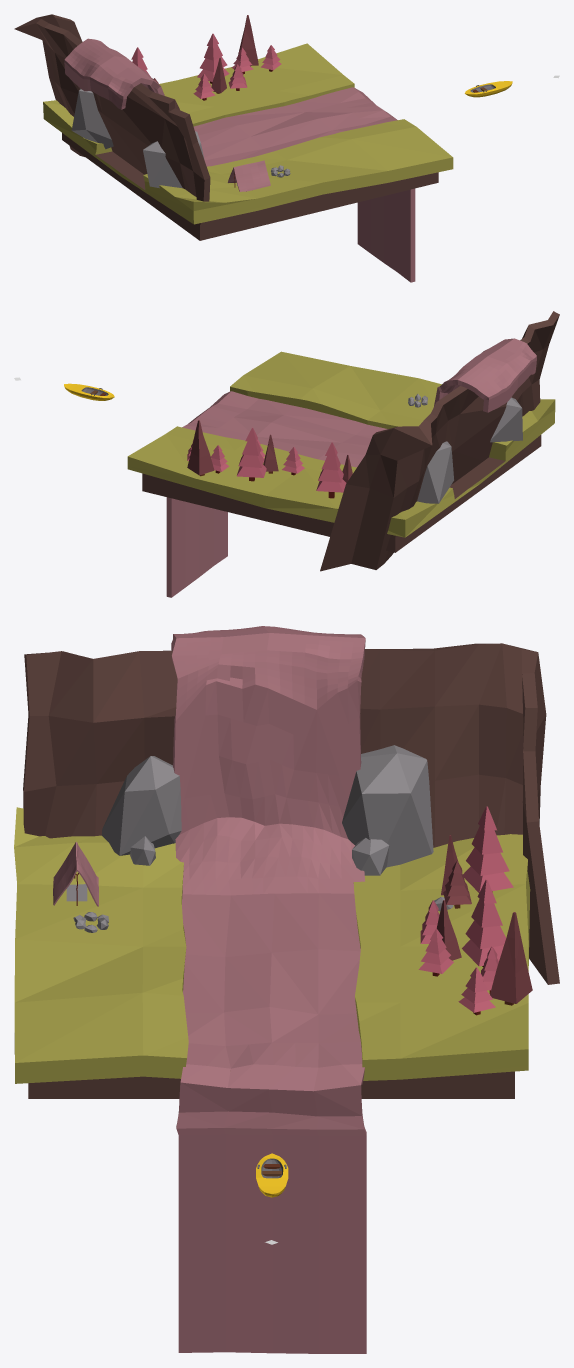
File: waterfallV4.1.glb
3 renders of one model, top to bottom at view 1: azimuth 30°, elevation 25°; view 2: azimuth 150°, elevation 25°; view 3: azimuth 270°, elevation 25°, orthographic. The views are drawn at different scales.
Visible parts, largest first — view 1: Flor, River, Cliff, Roc 2.001, Roc 2, Plan, Arbre 2.008, Arbre 1.002, Boat; view 2: Flor, River, Cliff, Roc 2.001, Roc 2, Arbre 2.007, Arbre 2.008, Arbre 1.002, Boat, Arbre 2; view 3: River, Flor, Cliff, Roc 2.001, Roc 2, Arbre 2.007, Arbre 1.002, Arbre 2.008, Plan, Roc, Boat, Arbre 2.006 (+1 smaller).
Boxes of the visible parts, x1,y1,x2,y2 form: Flor: (43, 43, 453, 240); River: (64, 38, 415, 282); Cliff: (14, 14, 210, 201); Roc 2.001: (71, 88, 113, 149); Roc 2: (143, 131, 204, 188); Plan: (227, 160, 270, 191); Arbre 2.008: (197, 33, 229, 83); Arbre 1.002: (238, 15, 258, 66); Boat: (464, 81, 512, 97); Flor: (127, 351, 555, 552); River: (166, 338, 536, 597); Cliff: (320, 311, 559, 571); Roc 2.001: (417, 441, 453, 503); Roc 2: (490, 397, 522, 442); Arbre 2.007: (316, 442, 346, 498); Arbre 2.008: (237, 427, 266, 481); Arbre 1.002: (187, 420, 214, 476); Boat: (64, 383, 114, 400); Arbre 2: (282, 447, 304, 475); River: (171, 626, 366, 1353); Flor: (14, 807, 530, 1098); Cliff: (23, 643, 559, 984); Roc 2.001: (342, 745, 433, 867); Roc 2: (101, 756, 181, 855); Arbre 2.007: (463, 806, 513, 892); Arbre 1.002: (490, 912, 532, 1005); Arbre 2.008: (462, 879, 506, 967); Plan: (53, 842, 98, 906); Roc: (352, 838, 389, 875); Boat: (256, 1153, 288, 1197); Arbre 2.006: (458, 967, 495, 1015).
Size of the model in its own units: 15.45 by 8.55 by 8.75.
